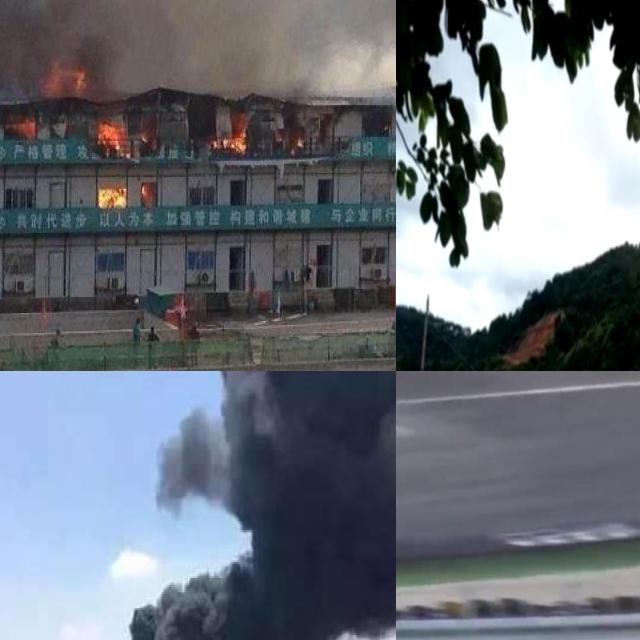fire: (41, 62, 89, 96), (95, 117, 133, 150), (209, 121, 249, 152), (96, 181, 128, 206), (14, 112, 38, 134), (291, 133, 303, 149)
smoke: (85, 371, 396, 640), (0, 0, 396, 79), (555, 158, 640, 371)
